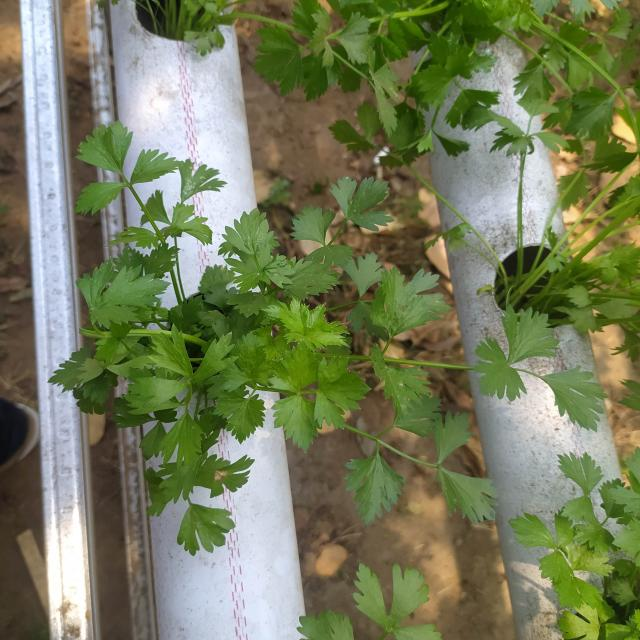Wet Waste: (181, 204, 556, 580), (4, 12, 168, 384)
